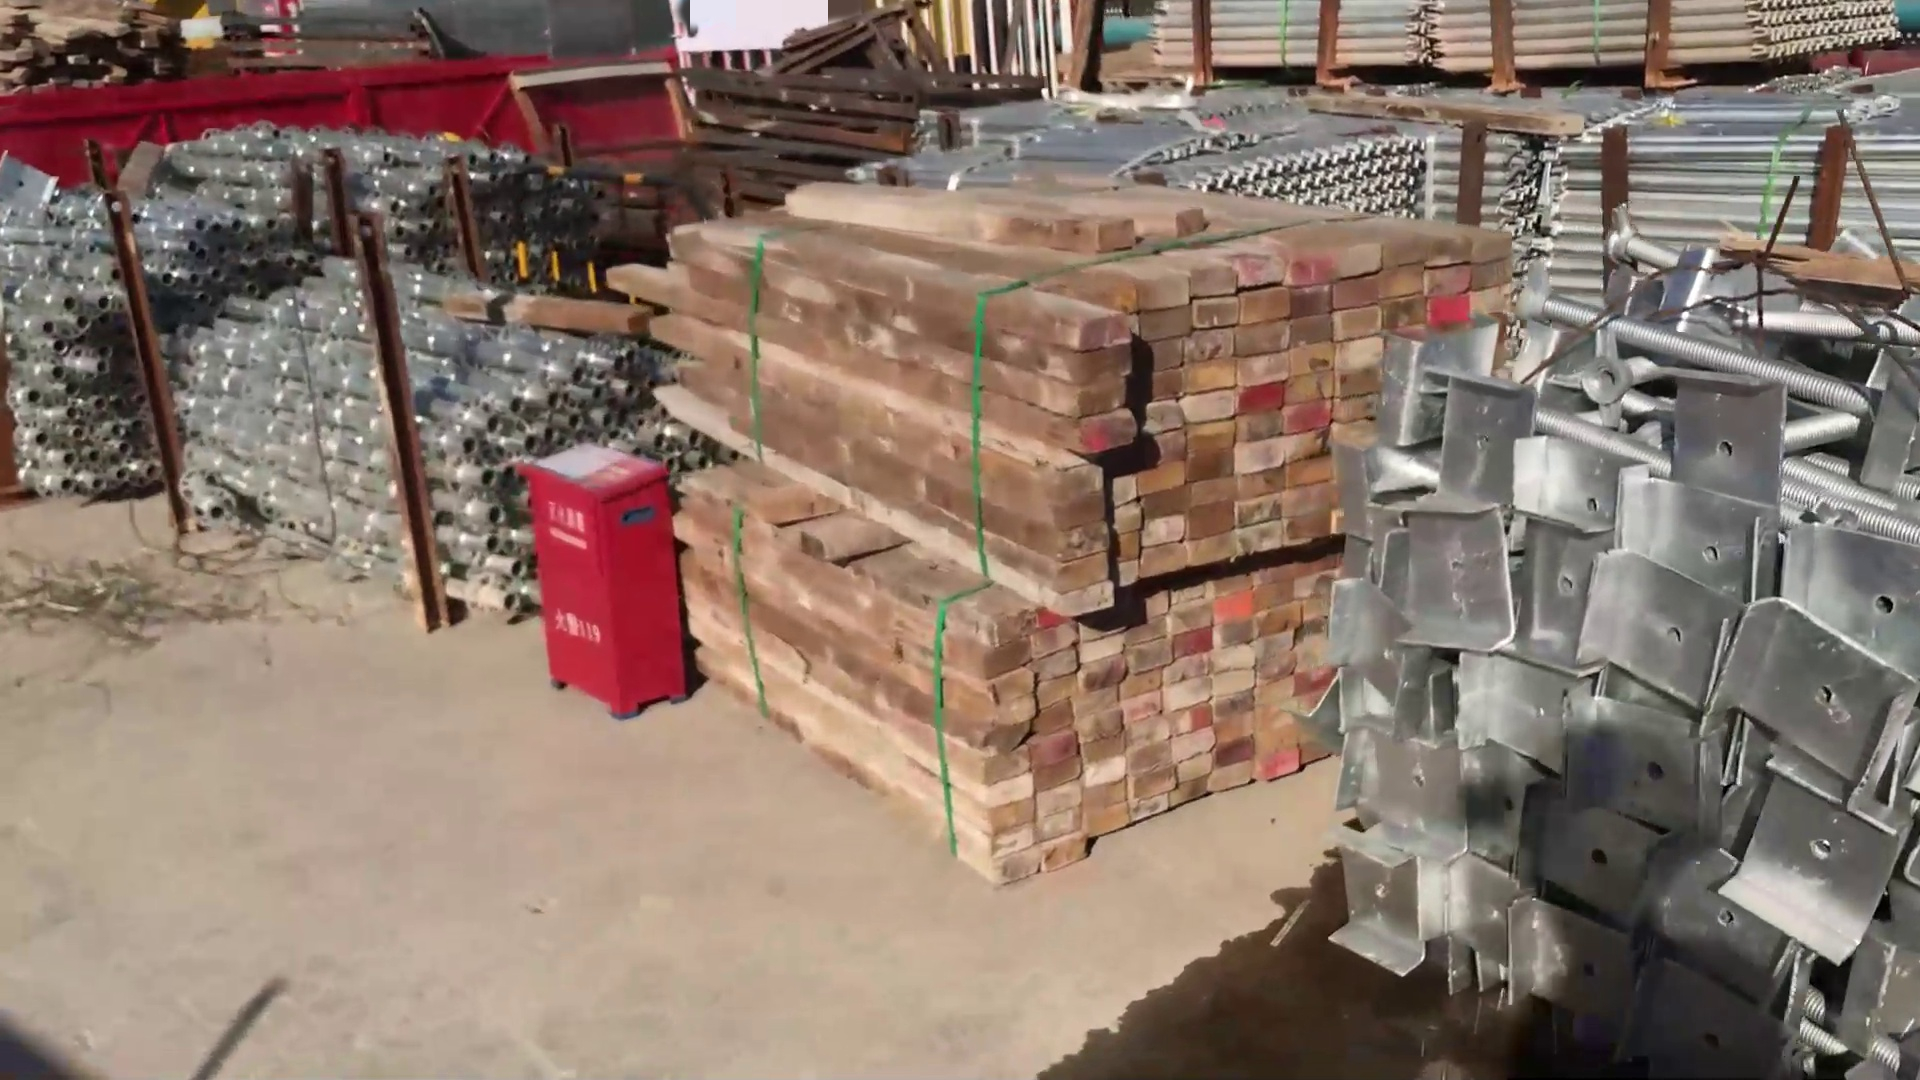scaffold: (189, 251, 612, 646), (1440, 96, 1920, 280), (7, 160, 228, 492), (1091, 1, 1920, 74), (181, 123, 547, 270), (1104, 94, 1451, 237)
wood: (661, 198, 1361, 887), (1, 1, 190, 76)
